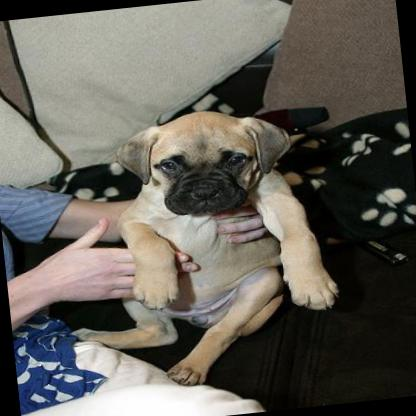bull_mastiff: (50, 98, 348, 396)
